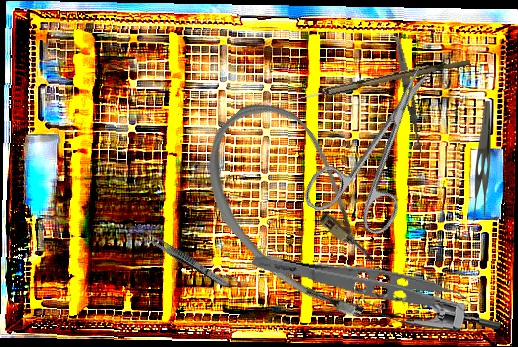Cannula: (174, 84, 426, 340)
Dressing Forceps: (129, 222, 234, 292), (392, 35, 427, 157), (471, 101, 491, 221)
Iris Scissors: (299, 47, 467, 247)
Speculum: (354, 261, 502, 335)
Surgical Spoon: (274, 54, 471, 110)
Tissue Forceps: (248, 249, 475, 322)
